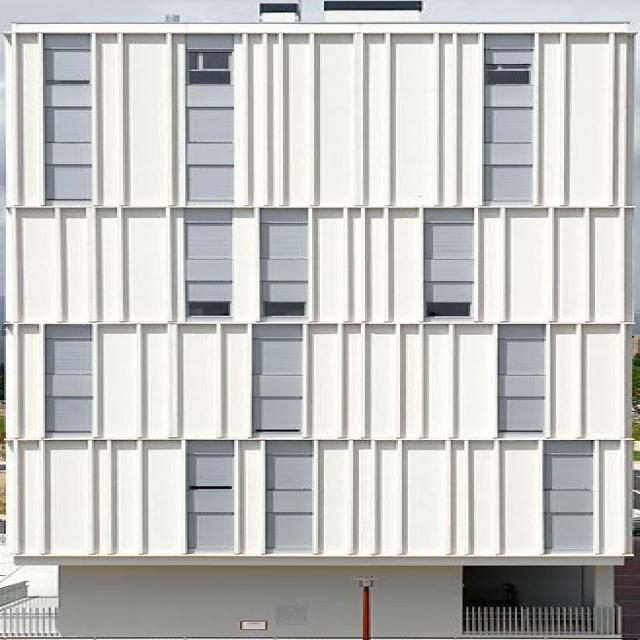window: (540, 440, 600, 553), (481, 65, 530, 202), (187, 51, 229, 205), (249, 325, 306, 438), (45, 325, 96, 434), (188, 441, 238, 552), (502, 326, 546, 436), (421, 221, 470, 316), (276, 442, 316, 554), (458, 607, 622, 634), (263, 226, 307, 318), (187, 222, 230, 316)
